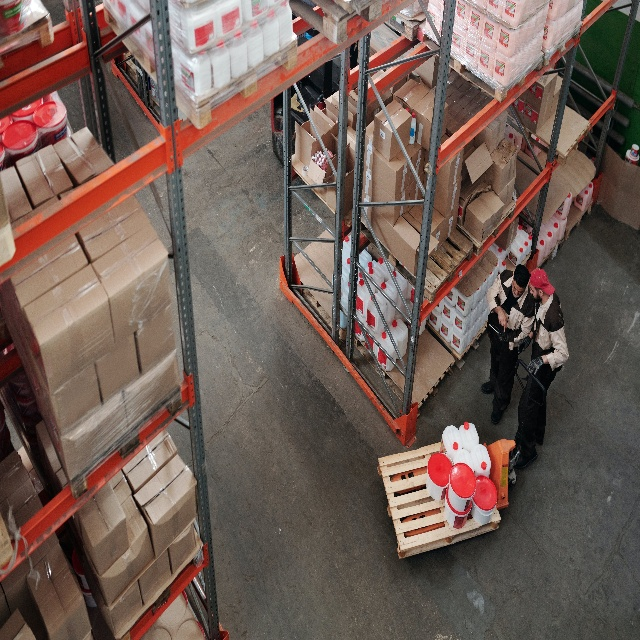Guantes: (527, 353, 544, 377), (517, 333, 531, 355), (496, 330, 510, 343)
Sin_guantes: (498, 310, 507, 332)
